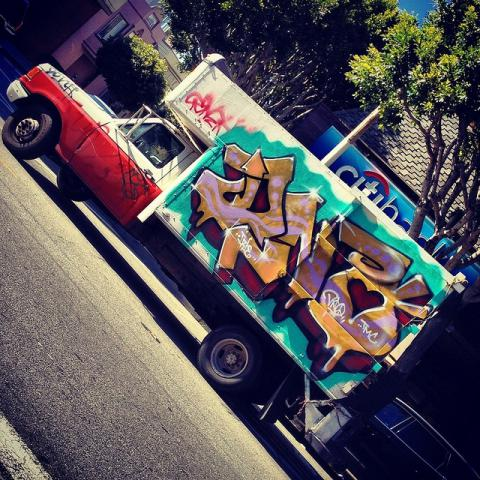car: (325, 392, 479, 480)
truck: (4, 47, 466, 446)
